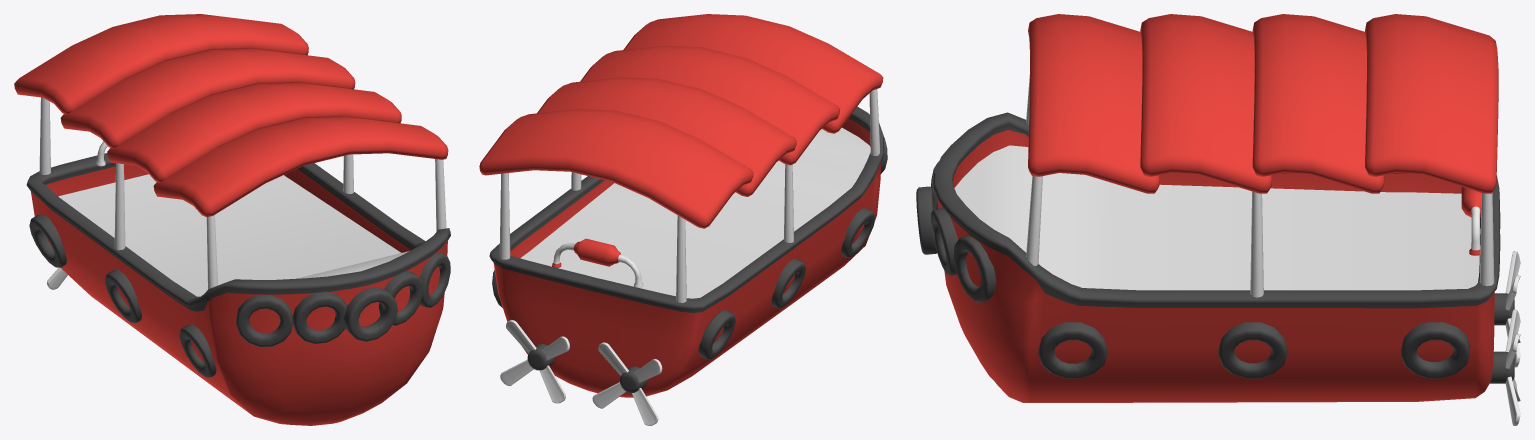
File: Sm_6carsShip.fbx
The picture shows the model from 3 angles, left to right: view 1: azimuth 30°, elevation 25°; view 2: azimuth 150°, elevation 25°; view 3: azimuth 270°, elevation 25°; orthographic projection. The views are drawn at different scales.
Parts seen in each view (by area): view 1: boat_low.001, boat_low.007; view 2: boat_low.001, boat_low.007, boat_low.005, boat_low.006; view 3: boat_low.001, boat_low.007, boat_low.006, boat_low.005.
Part boxes in pixels (box(x1,y1,x2,y2)): boat_low.001: box(26, 141, 450, 425); boat_low.007: box(14, 14, 448, 289); boat_low.001: box(489, 106, 887, 397); boat_low.007: box(479, 14, 883, 302); boat_low.005: box(592, 342, 662, 425); boat_low.006: box(500, 320, 569, 403); boat_low.001: box(916, 112, 1500, 402); boat_low.007: box(1026, 14, 1498, 297); boat_low.006: box(1489, 309, 1520, 425); boat_low.005: box(1494, 251, 1520, 367).
Bounding box in the file's own units: 296 × 317 × 520.
